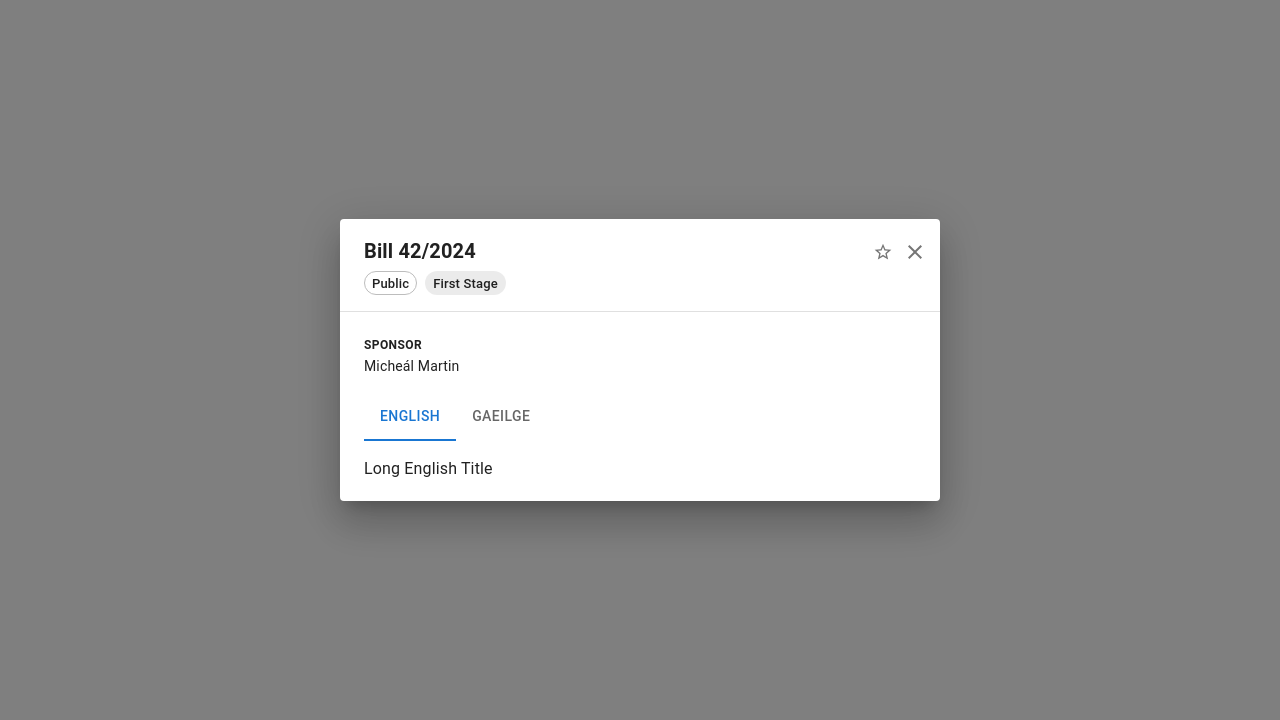
Test case: BillModal › switches to the Gaeilge tab and shows the Gaeilge title
This screenshot has width=1280, height=720.
Click the tab "Gaeilge" at (501,416), box [456,392,546,440]
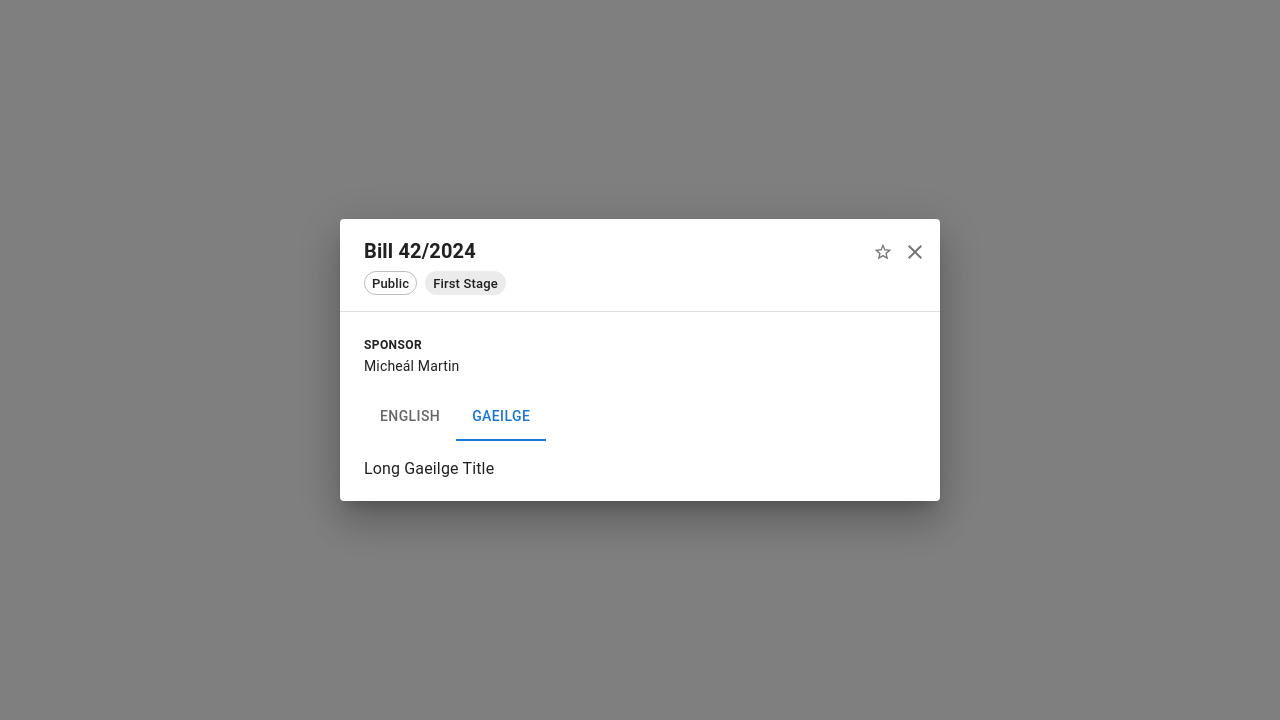
Result: the text "Long Gaeilge Title" is shown at [364,458,494,478]
Result: the text "Long English Title" is gone
